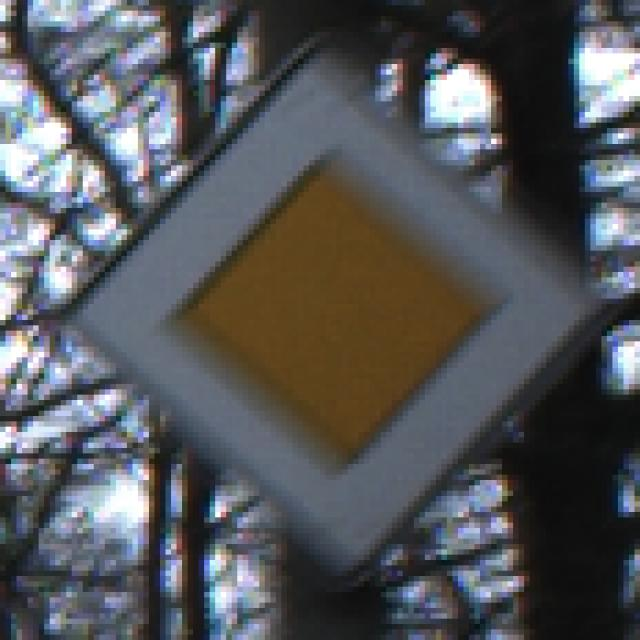Main Road: (62, 54, 586, 588)
